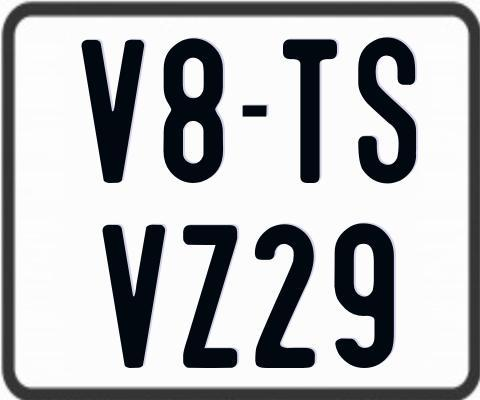2: (254, 223, 316, 368)
8: (160, 38, 221, 187)
9: (332, 223, 394, 370)
S: (355, 37, 416, 186)
T: (282, 39, 337, 188)
V: (102, 224, 170, 373), (80, 40, 142, 183)
Z: (181, 223, 239, 369)
